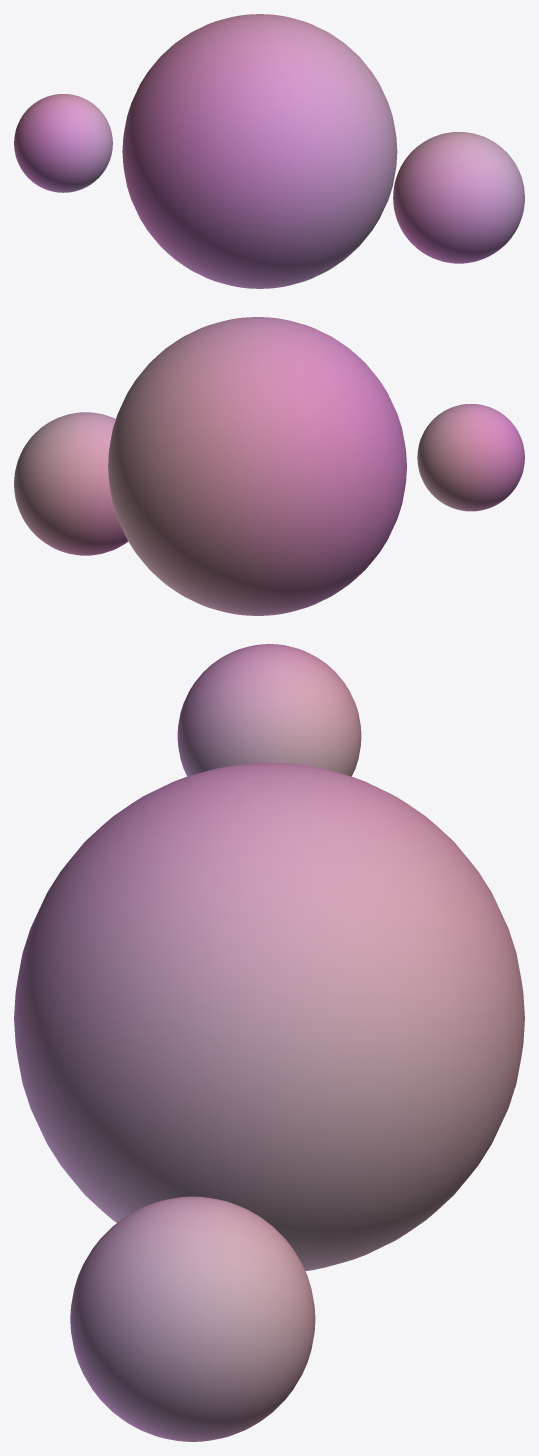
Rendered from sample-sphere.glb.
3 views of the same model, one above another, from view 1: azimuth 30°, elevation 25°; view 2: azimuth 150°, elevation 25°; view 3: azimuth 270°, elevation 25° (orthographic). The views are drawn at different scales.
Parts seen in each view (by area): view 1: Main sphere, Right satellite, Left satellite; view 2: Main sphere, Right satellite, Left satellite; view 3: Main sphere, Right satellite, Left satellite.
Boxes of the visible parts, x1,y1,x2,y2 form: Main sphere: [122, 14, 397, 288]; Right satellite: [393, 132, 524, 263]; Left satellite: [14, 94, 112, 192]; Main sphere: [108, 317, 406, 615]; Right satellite: [14, 412, 127, 555]; Left satellite: [417, 404, 524, 511]; Main sphere: [14, 763, 524, 1271]; Right satellite: [70, 1196, 315, 1441]; Left satellite: [177, 644, 361, 776].
Size of the model in its own units: 3.99 by 2.08 by 2.
